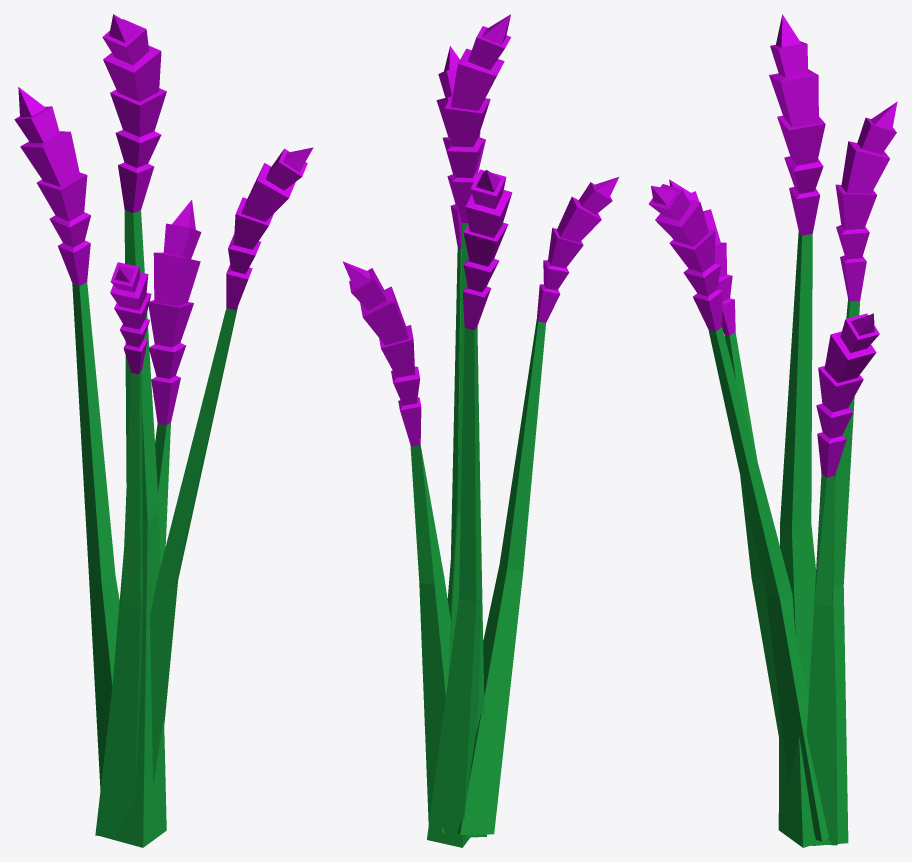
File: lavendar.fbx
3 renders of one model, left to right at view 1: azimuth 30°, elevation 25°; view 2: azimuth 150°, elevation 25°; view 3: azimuth 270°, elevation 25°, orthographic. The views are drawn at different scales.
Parts seen in each view (by area): view 1: lavender; view 2: lavender; view 3: lavender.
Part boxes in pixels (x1,y1,x2,y2): lavender: (14, 14, 313, 847); lavender: (342, 14, 618, 847); lavender: (648, 14, 897, 847).
Size of the model in its own units: 24.83 by 106 by 29.67.
